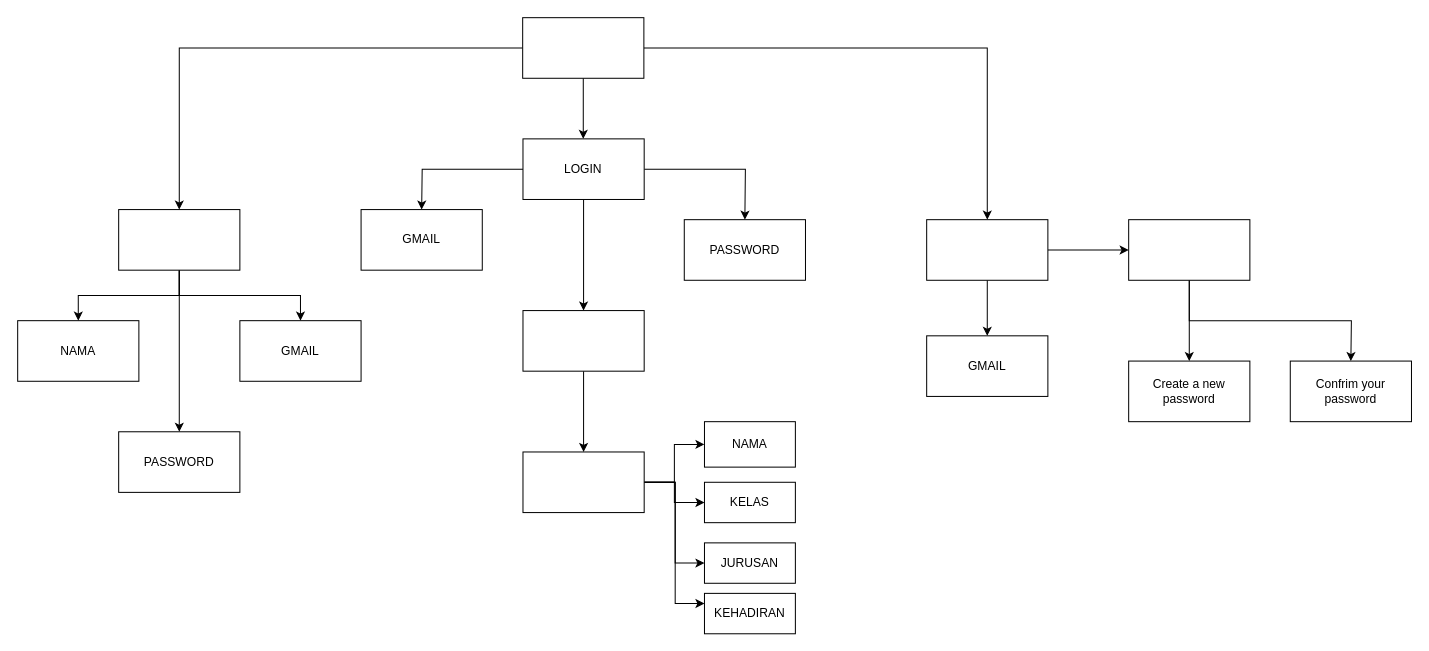
This 1429x651 diagram has some shape labels left out. The centre of each missing label's shape, as x and y in pixels:
"FORGET PASSWORD" belongs at point (987, 249).
"FORM ABSENSI" belongs at point (583, 482).
"HOME" belongs at point (583, 47).
"MULAI ABSENSI" belongs at point (583, 340).
"NEW PASSWORD" belongs at point (1189, 249).
"SIGN UP" belongs at point (179, 239).
